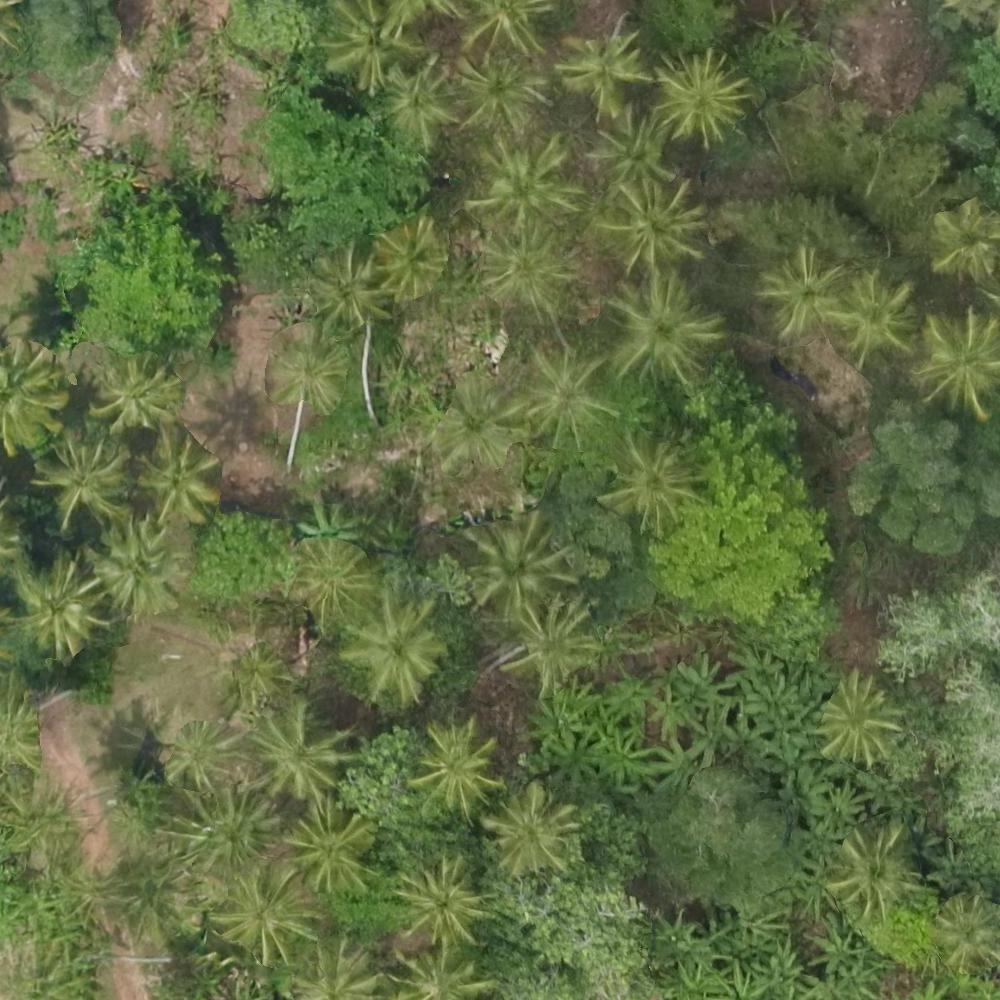Palm: (599, 177, 709, 272), (604, 284, 712, 378), (343, 598, 444, 696), (214, 871, 317, 960), (253, 702, 343, 801), (560, 26, 655, 118), (466, 519, 563, 609), (477, 136, 577, 223), (655, 52, 750, 143), (325, 1, 426, 86), (917, 311, 1000, 409), (283, 799, 376, 886), (510, 600, 599, 689), (176, 792, 269, 874), (452, 48, 546, 128), (610, 431, 696, 518), (407, 725, 496, 809), (519, 345, 604, 432), (92, 526, 180, 610), (12, 564, 102, 646), (40, 439, 126, 524), (830, 271, 911, 361), (433, 383, 515, 471), (287, 534, 371, 619), (404, 859, 493, 938), (92, 359, 188, 432), (482, 222, 564, 305), (490, 790, 570, 873), (304, 246, 387, 326), (760, 250, 837, 336), (141, 439, 219, 523), (819, 677, 898, 759), (834, 828, 914, 907), (376, 60, 458, 135), (584, 113, 665, 188), (268, 336, 347, 411), (162, 718, 247, 786), (928, 201, 1000, 278), (928, 896, 998, 972), (380, 219, 446, 290)
